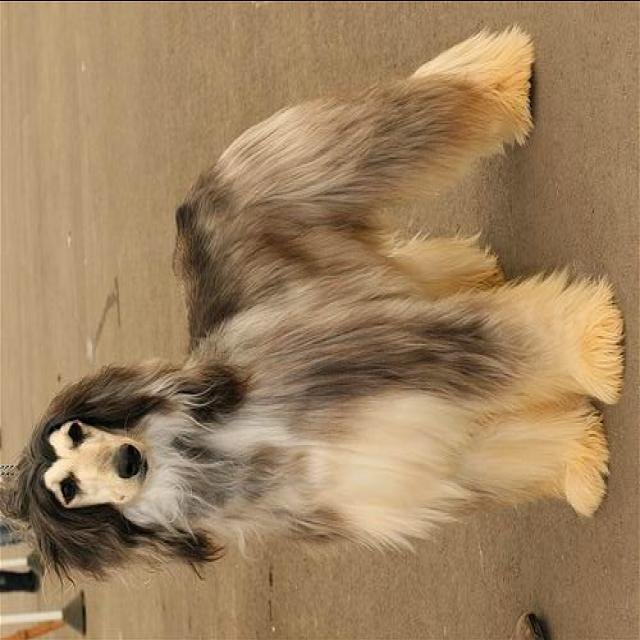afghan_hound: (0, 15, 628, 607)
